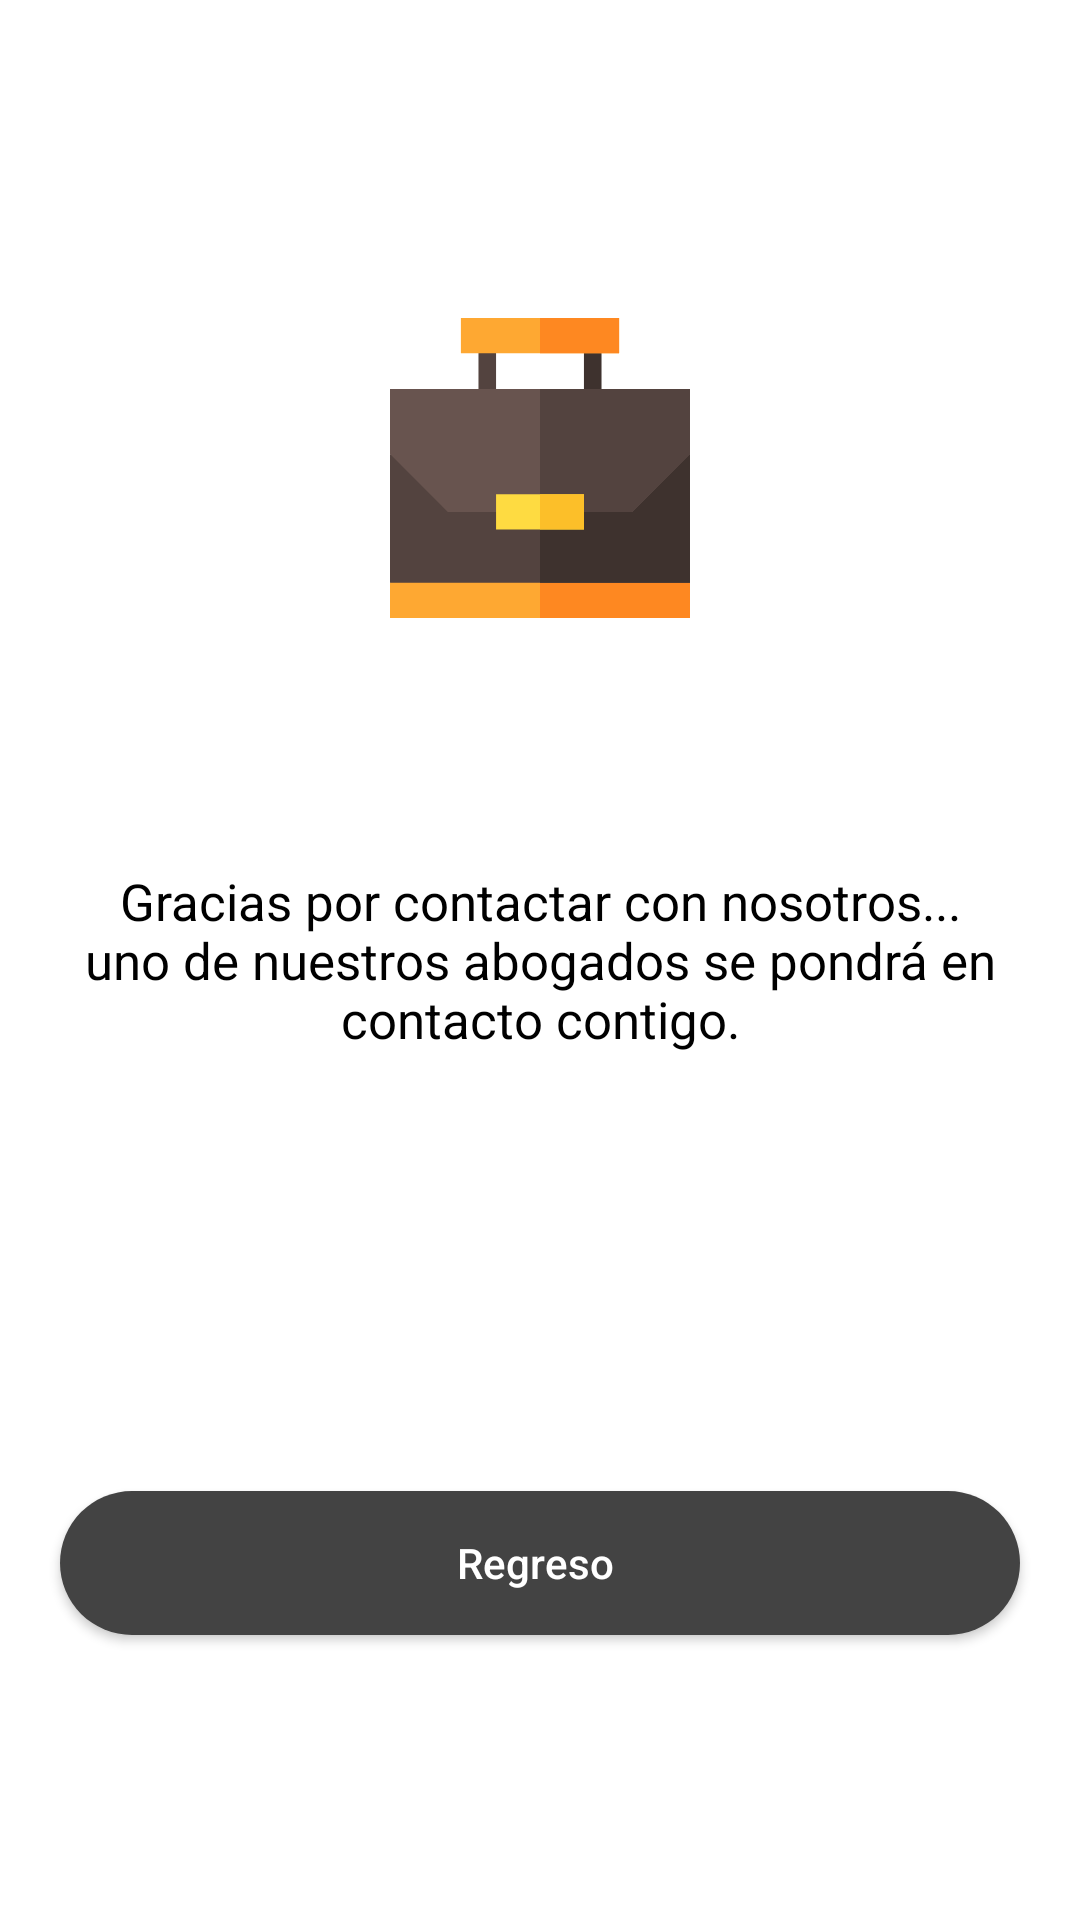

Icon click points for this 1080px x 1920px phone screenshot, format [x,y]:
case: [540,468]
